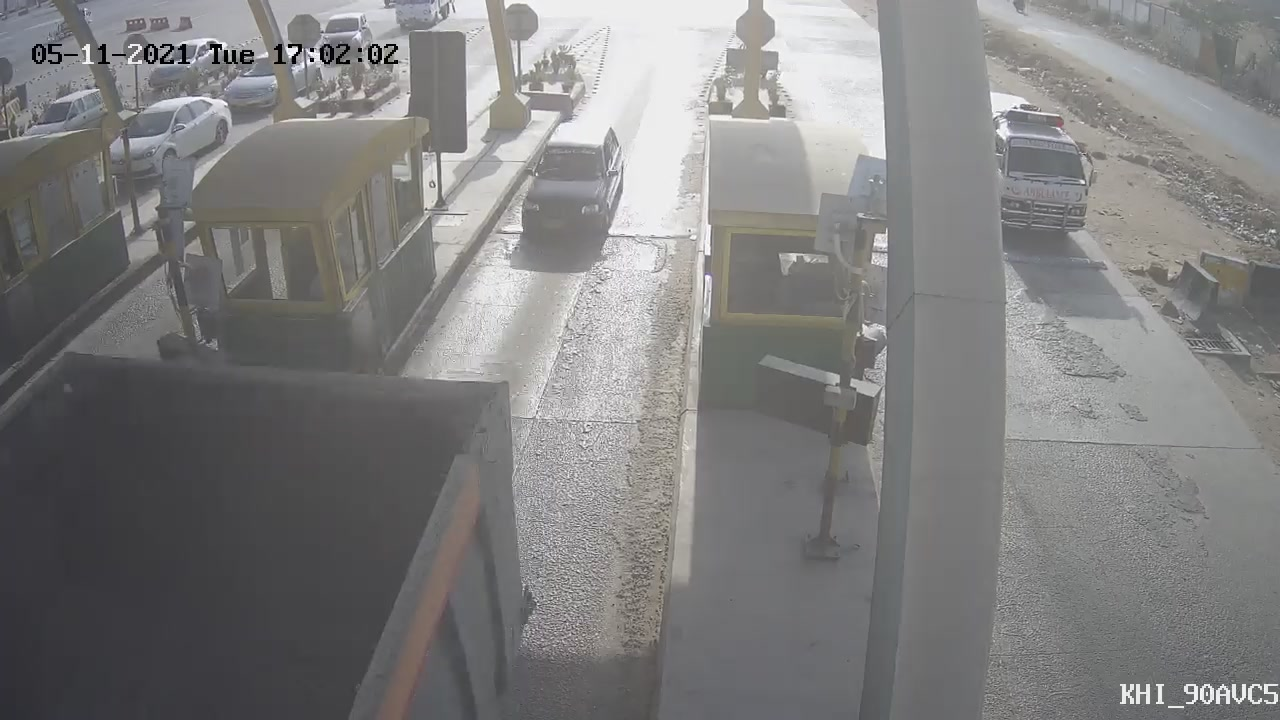F1: (503, 107, 639, 265)
